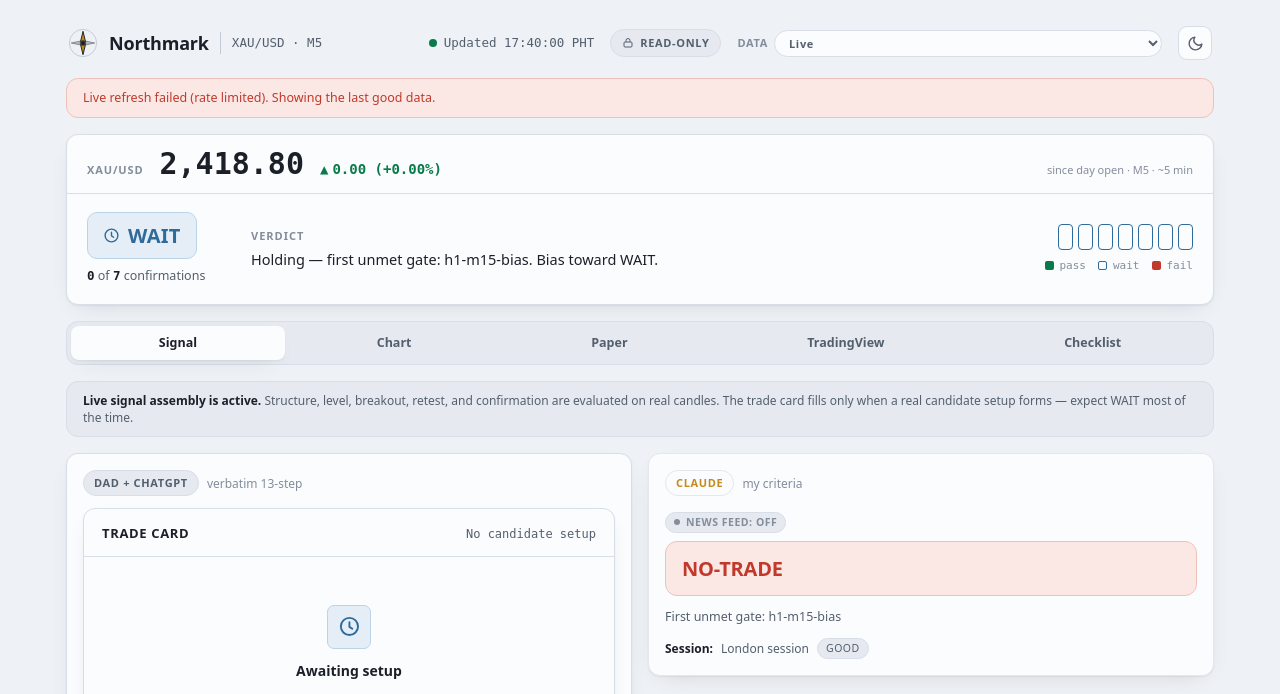
Test: a live refresh error banner never shows in demo mode (error state is stale, not live)
expect the text "Live refresh failed" is shown: met, box [83, 89, 194, 106]
expect the text "Showing the last good data" is shown: met, box [262, 89, 435, 106]
Select "Demo · Authorized LONG — STRONG" in the dropdown named "Data source" at (968, 43), box [774, 30, 1162, 56]
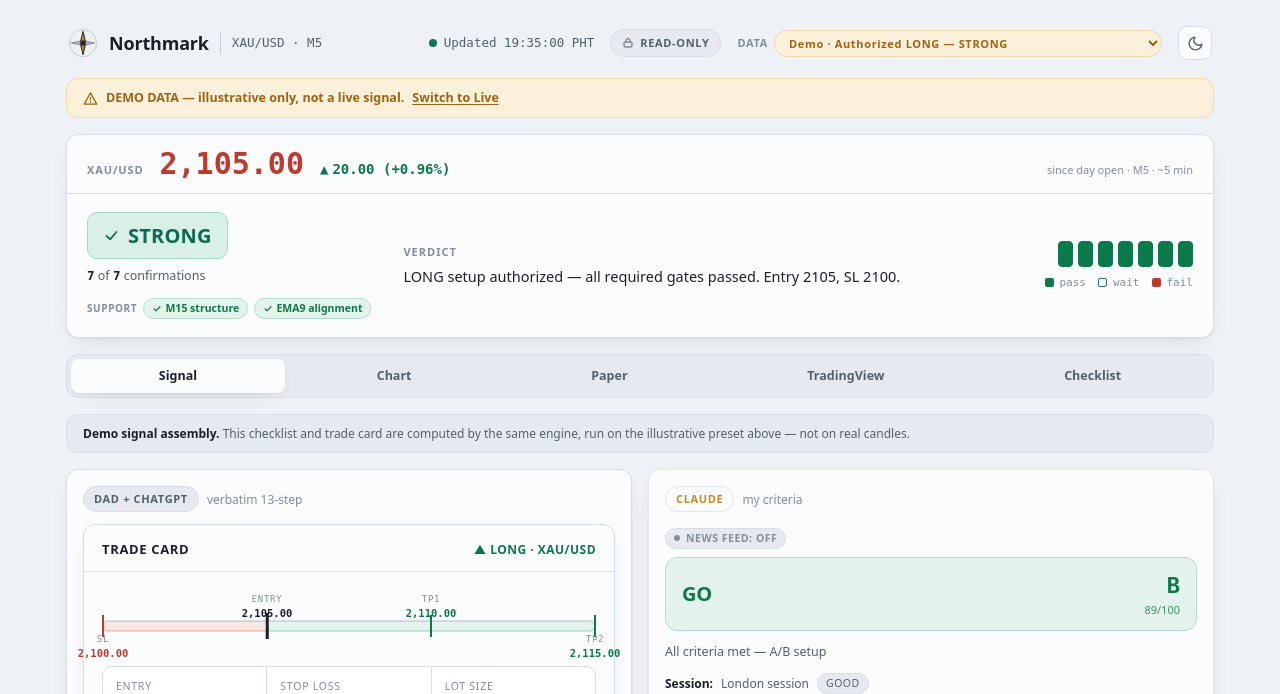
expect the text "DEMO DATA — illustrative only, not a live signal. Switch to Live" is shown: met, box [66, 78, 1214, 118]
expect the text "Live refresh failed" is gone: met
expect the text "Showing the last good data" is gone: met
